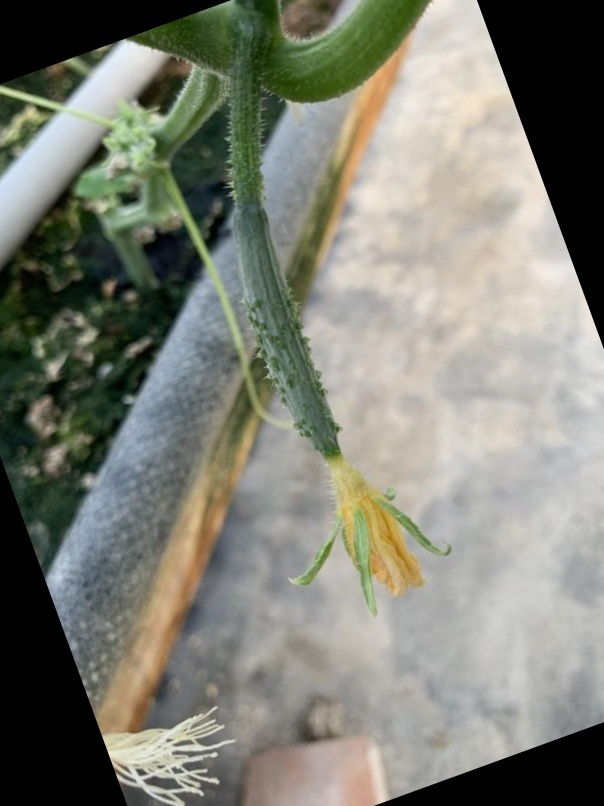bear: (207, 178, 454, 640)
